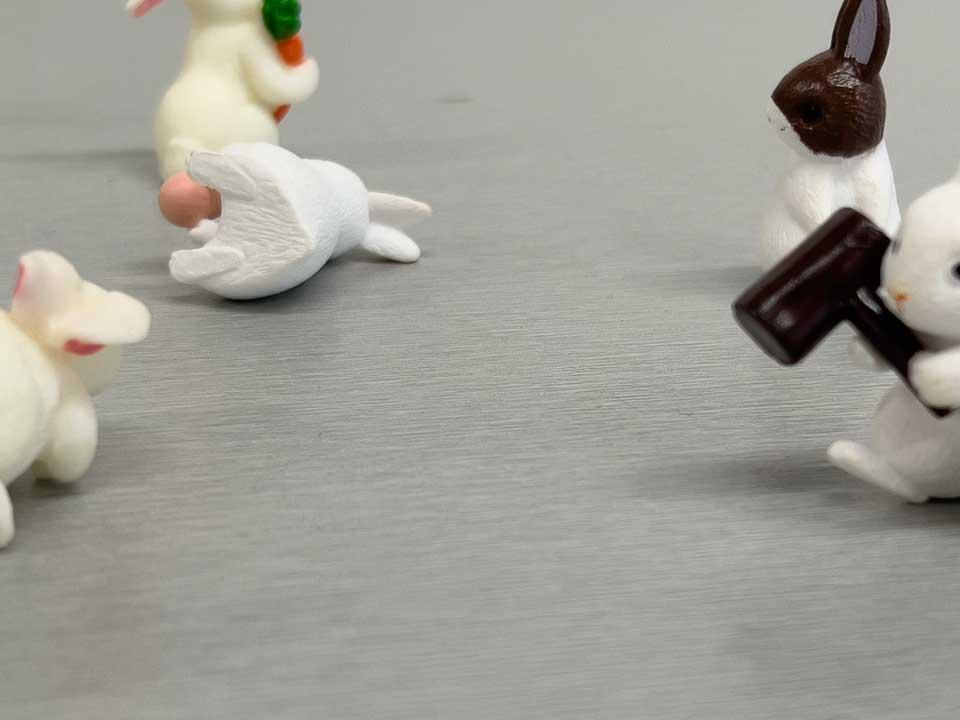pet: (724, 175, 960, 508), (162, 137, 436, 302), (748, 0, 900, 281), (118, 0, 322, 205)
